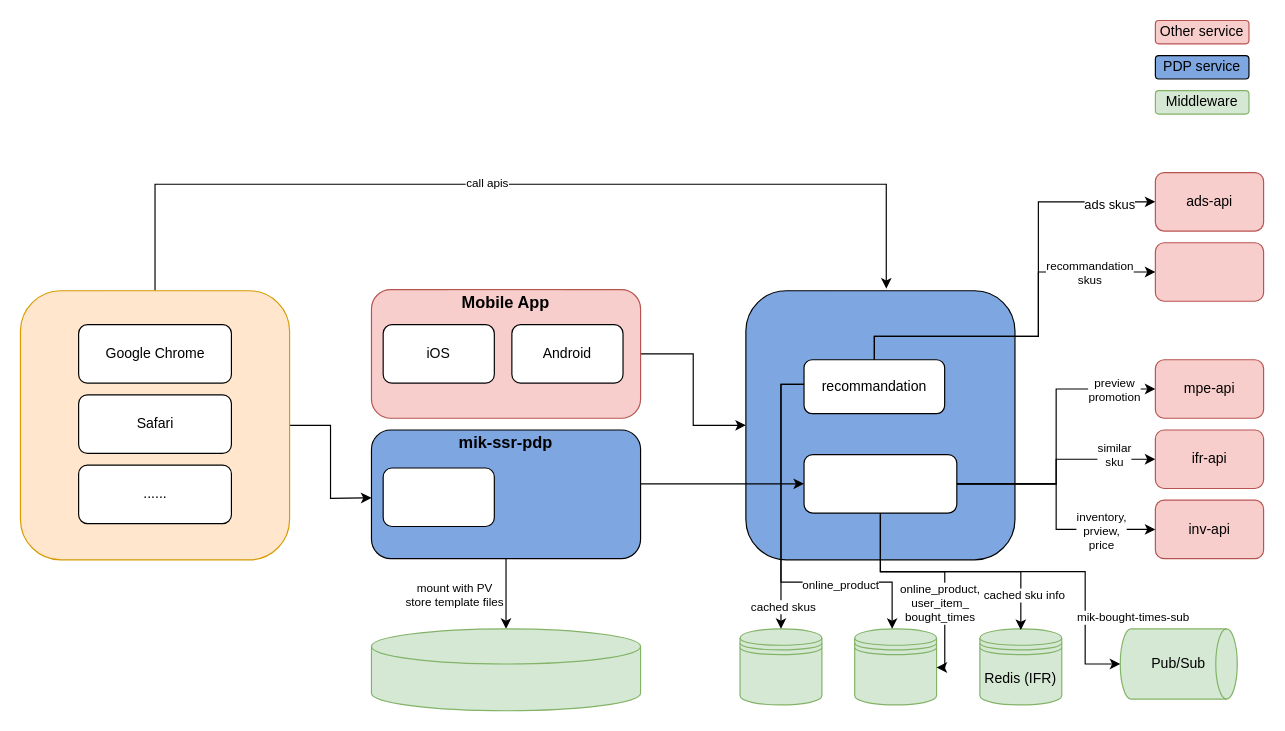
The diagram is 1285 pixels wide and 731 high, and some of its shapes have lost their labels. The shapes that lost their labels are listed below. From the top down, each one's centre as x and y in pixels, then its label:
At pixel 1209 271: "rec-api".
At pixel 148 303: "Browser".
At pixel 874 307: "mik-api".
At pixel 438 496: "Node.js".
At pixel 880 483: "product".
At pixel 505 669: "Filestore".
At pixel 780 666: "Redis (MIK)".
At pixel 895 666: "MongoDB".
